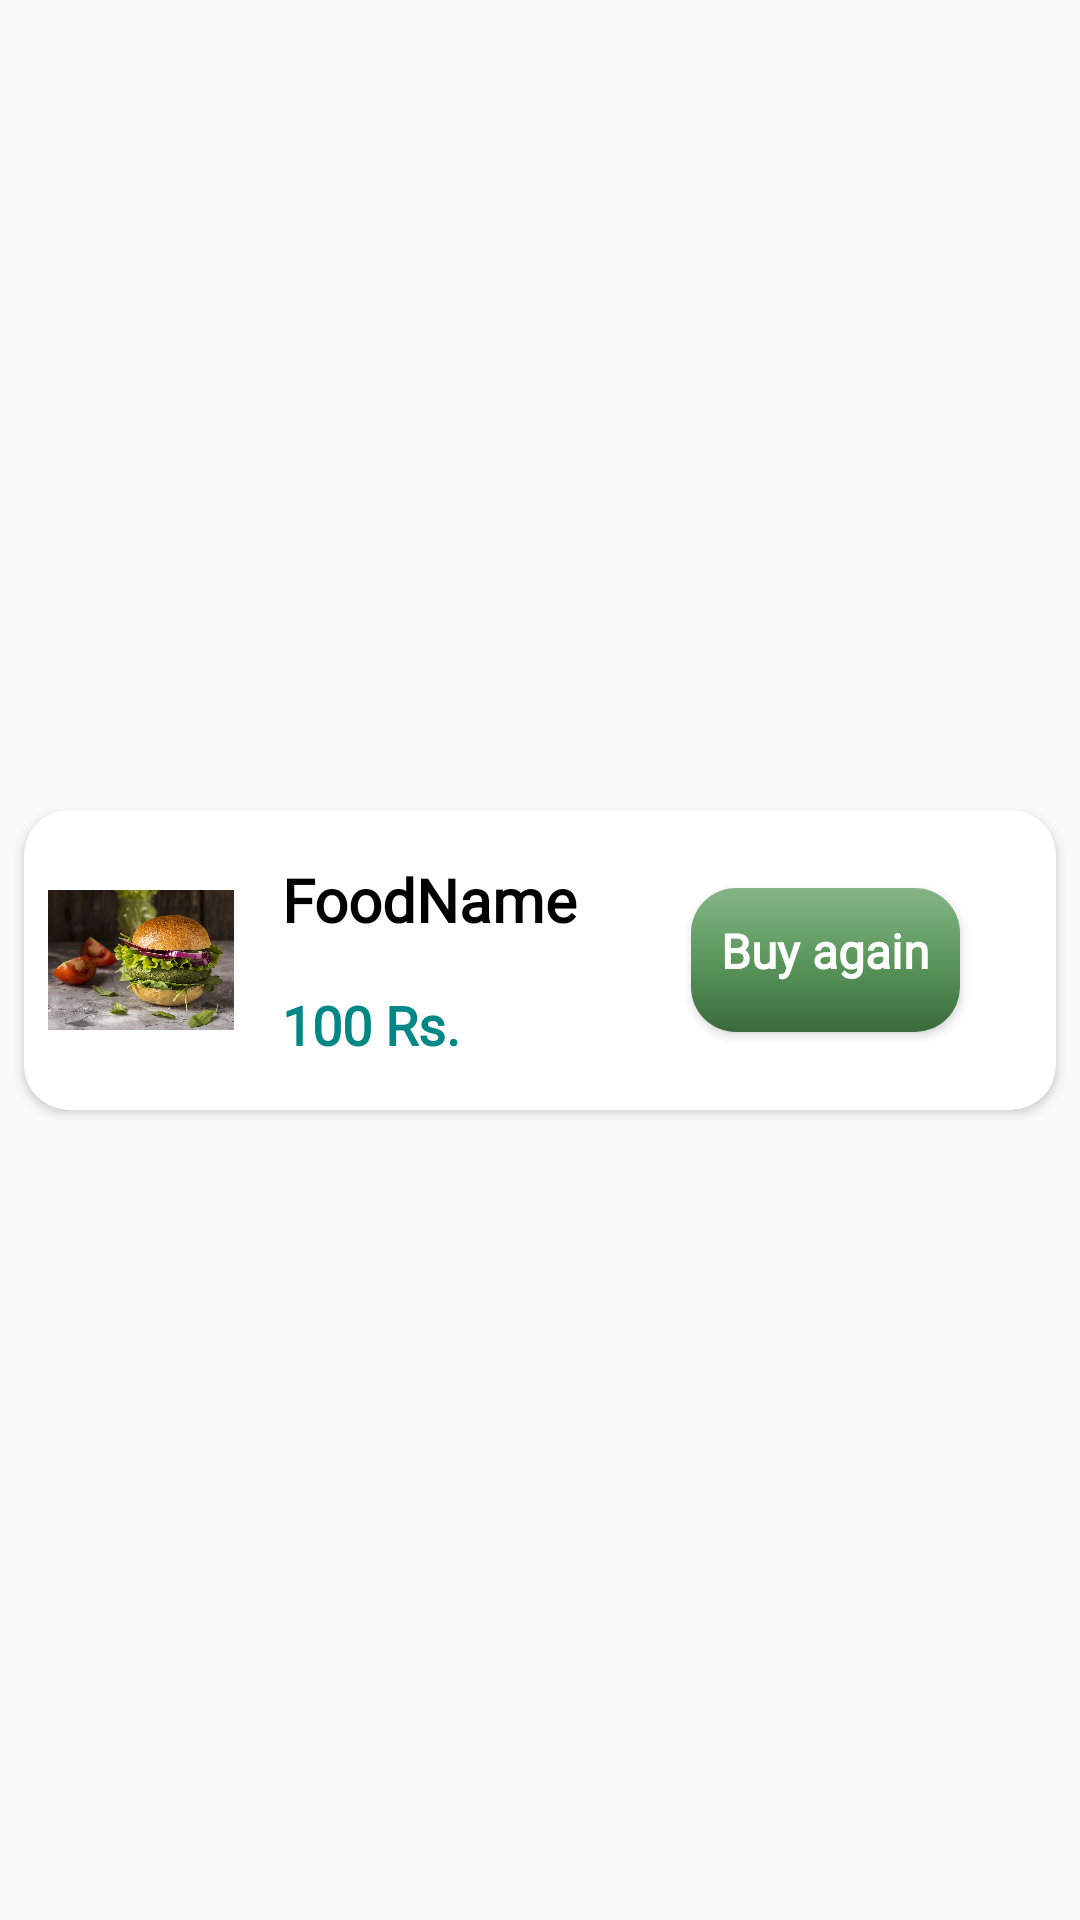

Icon bounding boxes for this 1080px x 1920px phone screenshot, format [x1, y1, x2, y2]:
burger: [48, 890, 234, 1030]
